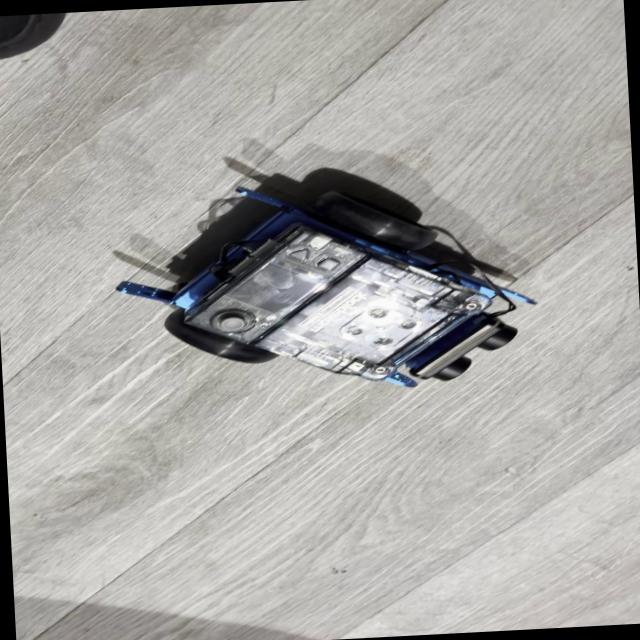mbot-detection: (98, 162, 567, 415)
